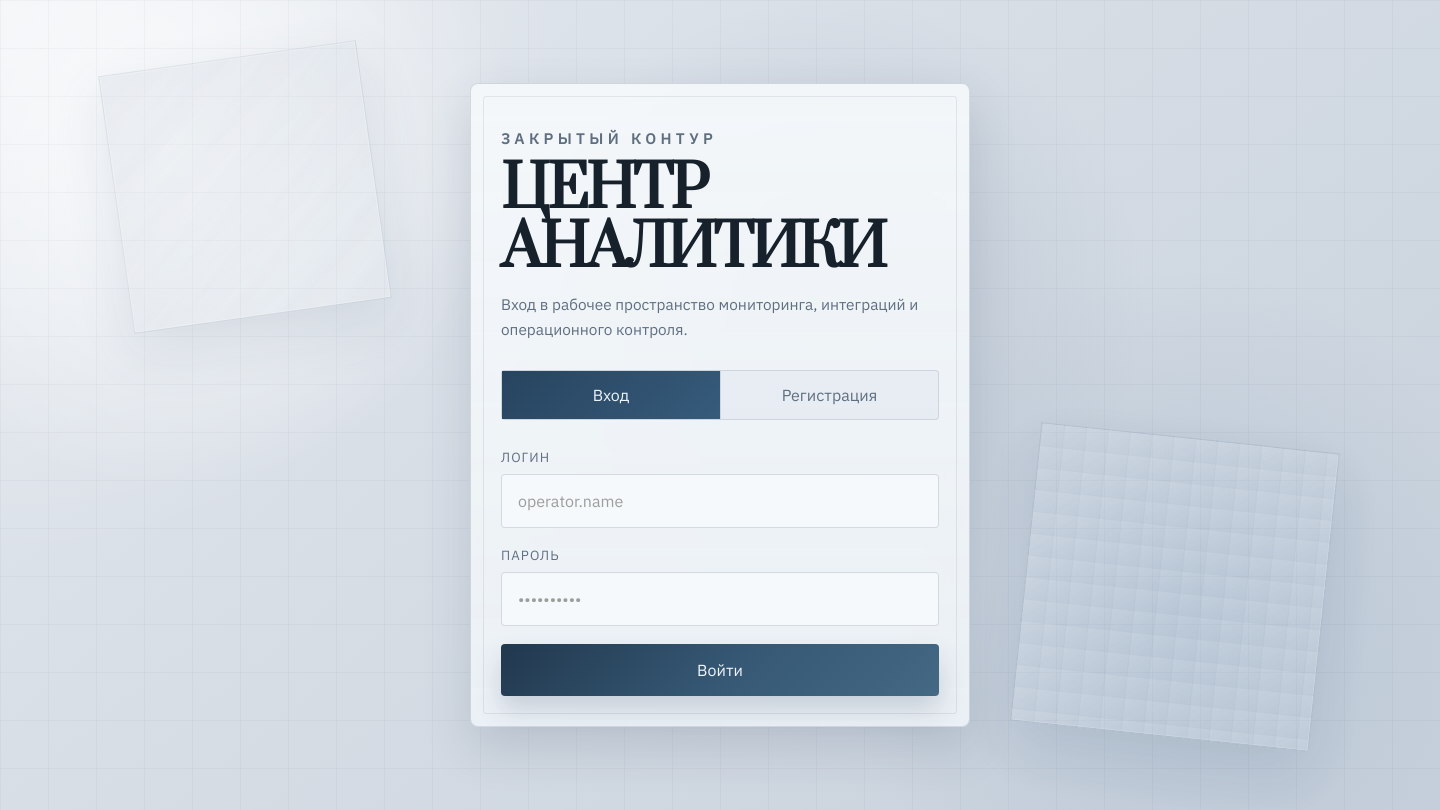
Test: AuthPage › shows inline validation errors before submit
Click the button "Войти" at (720, 670), box [501,644,939,696]
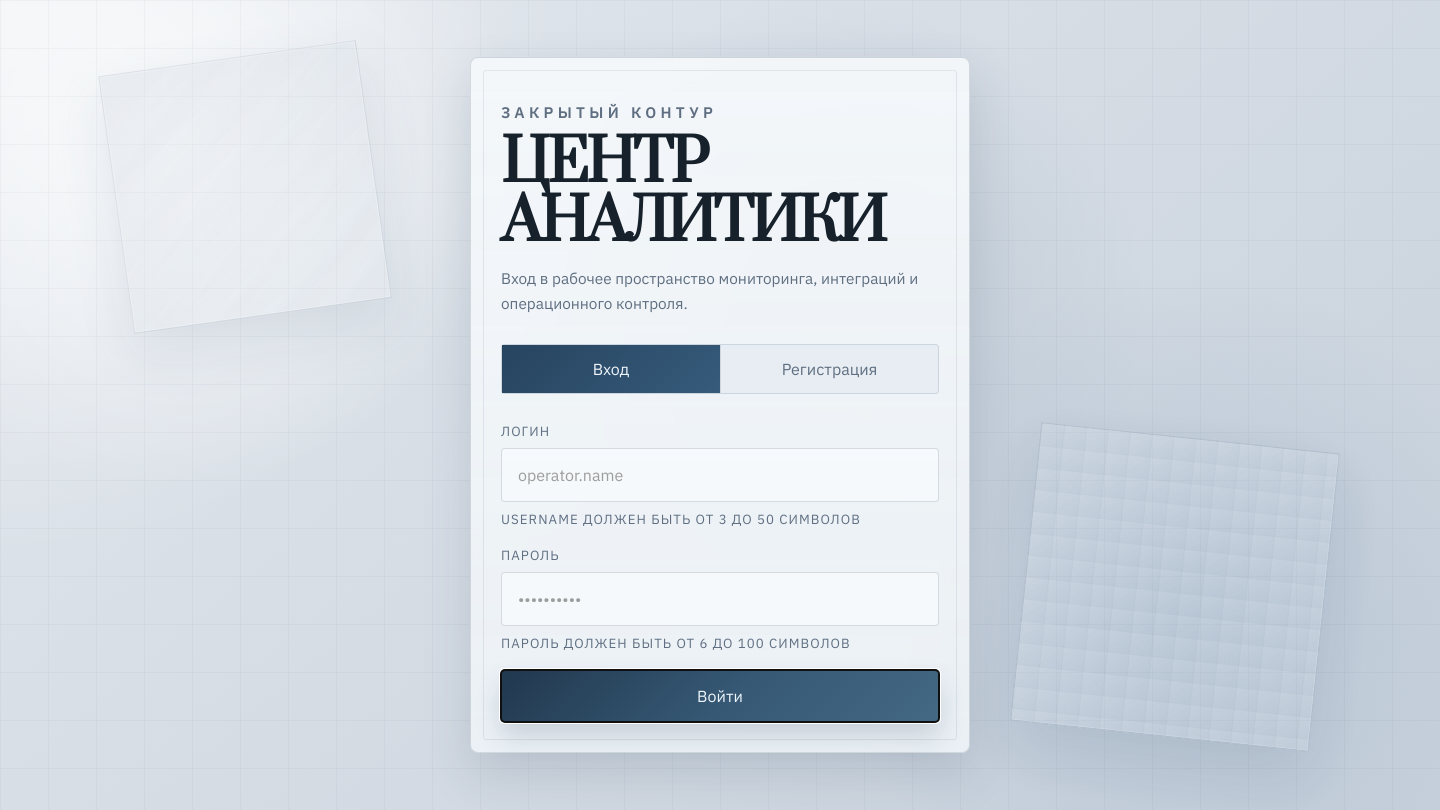
expect the text "Username должен быть от 3 до 50 символов" is shown: met, box [501,510,861,528]
expect the text "Пароль должен быть от 6 до 100 символов" is shown: met, box [501,634,851,652]
